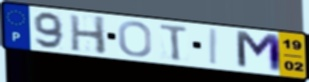9: (32, 11, 67, 50)
H: (68, 14, 109, 56)
I: (208, 28, 220, 67)
M: (234, 29, 285, 75)
O: (117, 20, 154, 58)
T: (159, 23, 191, 62)
